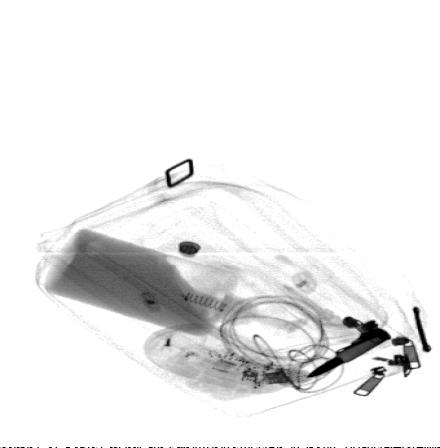Bullet: (305, 328, 392, 379)
